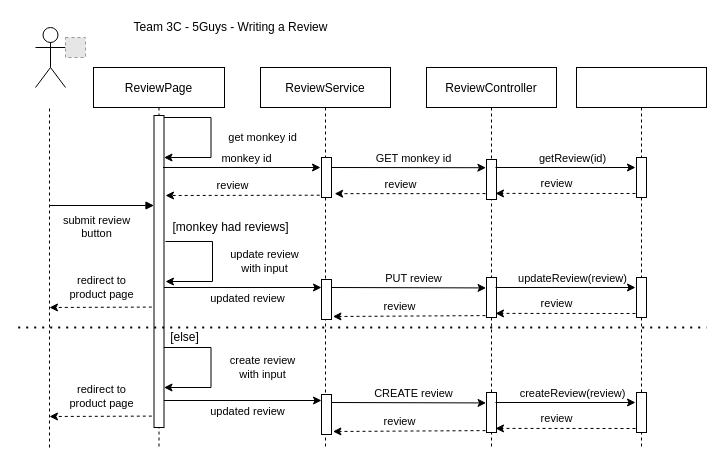
The diagram is 726 pixels wide and 466 high, and some of its shapes have lost their labels. Grey dashed boxes stand in for pictures. The box of each missing label's shape, as (x1, y1, x2, y2) in pixels:
Customer: (34, 26, 66, 88)
ReviewFileDAO: (576, 66, 706, 448)
